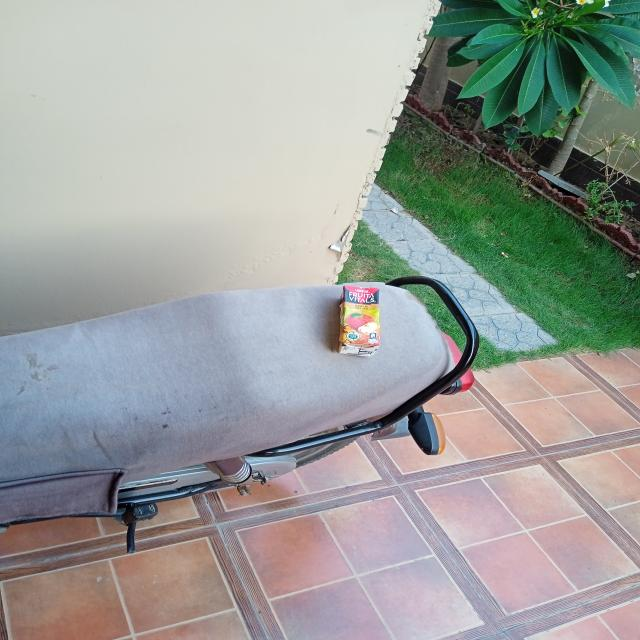Plastic: (329, 282, 385, 356)
